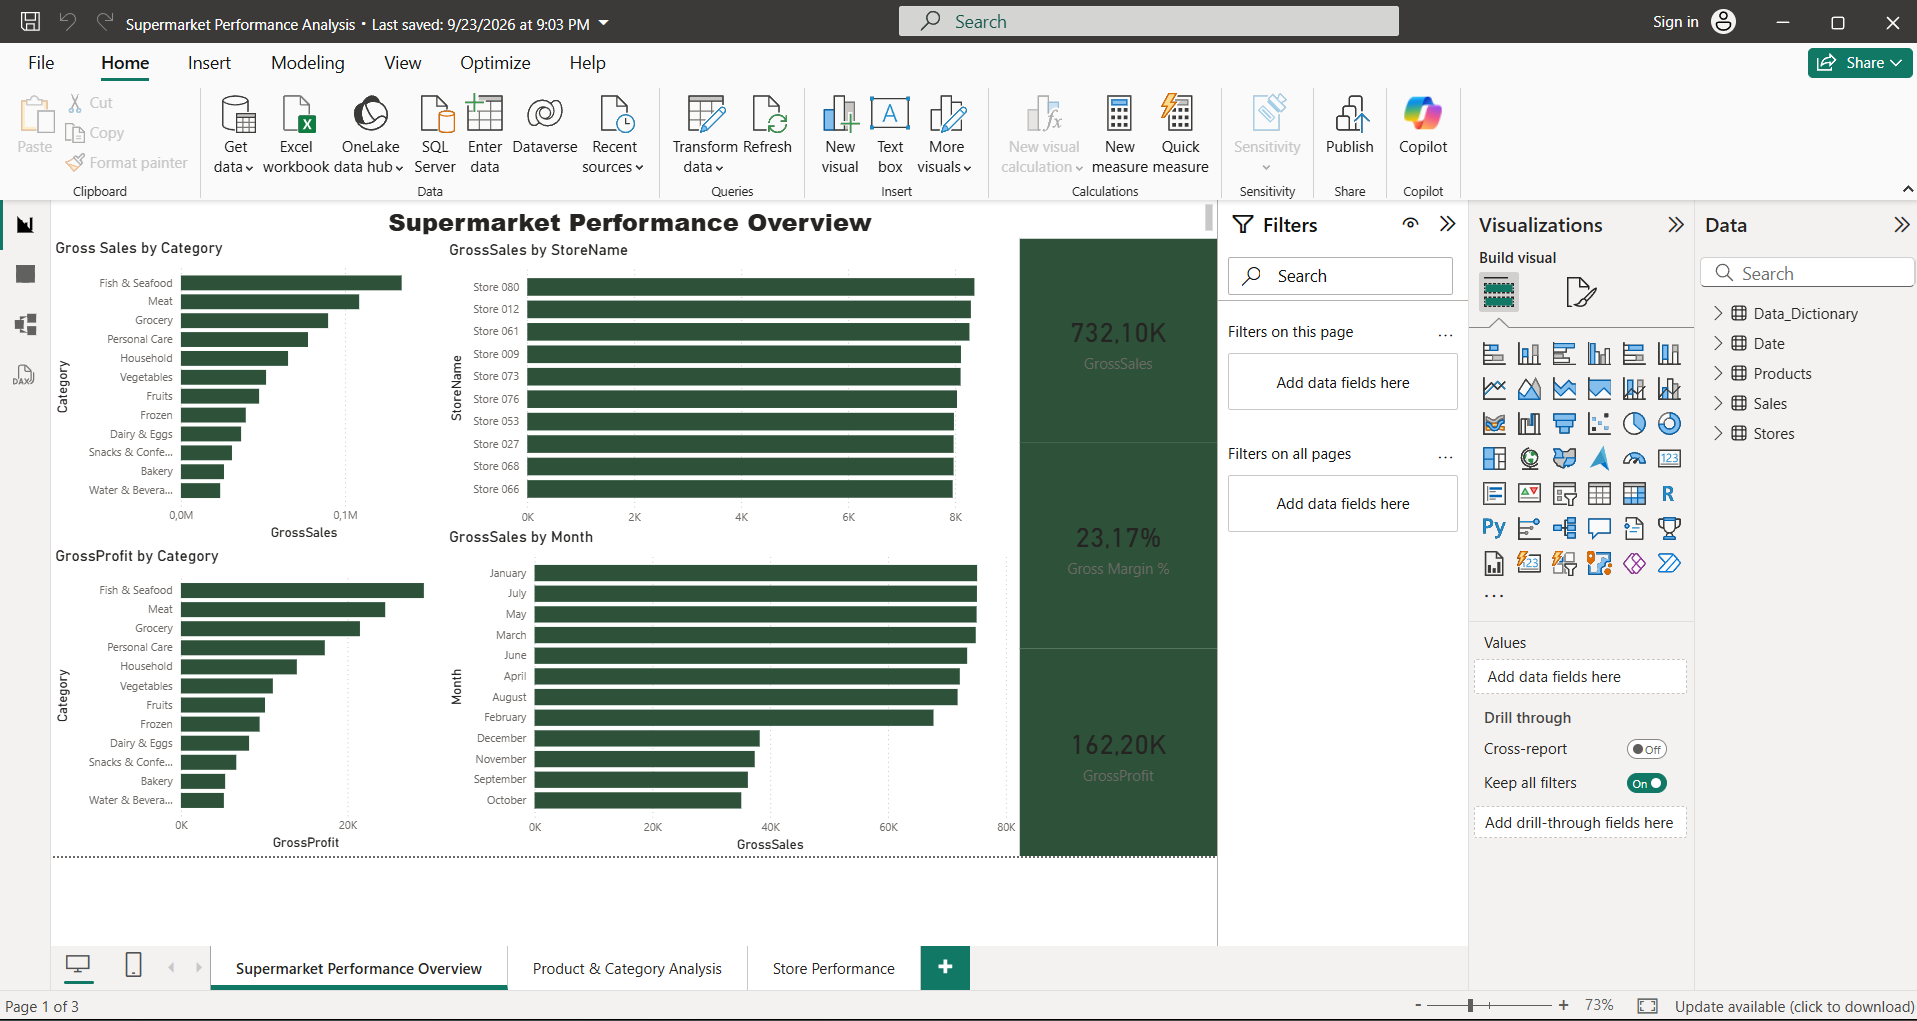

What the dashboard file says about the page in this screenshot:
{"tool":"powerbi","page":{"name":"Supermarket Performance Overview","canvas":[1280,720],"ordinal":0},"visuals":[{"type":"clusteredBarChart","title":"Gross Sales by Category","fields":{"Category":["Products.Category"],"Y":["Sum(Sales.GrossSales)"]},"box":[0,42.5,432.2,336.2],"z":0},{"type":"clusteredBarChart","fields":{"Category":["Products.Category"],"Y":["Sum(Sales.GrossProfit)"]},"box":[0,380.1,432.2,338.9],"z":1000},{"type":"clusteredBarChart","fields":{"Category":["Stores.StoreName"],"Y":["Sum(Sales.GrossSales)"]},"box":[432.2,43.9,631.2,336.2],"z":2000},{"type":"clusteredBarChart","fields":{"Category":["Date.Month"],"Y":["Sum(Sales.GrossSales)"]},"box":[432.2,359.5,631.2,360.9],"z":3000},{"type":"textbox","box":[0,0,1280.3,42.5],"z":4000},{"type":"card","fields":{"Values":["Sum(Sales.GrossSales)"]},"box":[1063.5,42.5,216.8,223.7],"z":5000},{"type":"card","fields":{"Values":["Sum(Sales.GrossProfit)"]},"box":[1063.5,492.6,216.8,227.8],"z":6000},{"type":"card","fields":{"Values":["Data_Dictionary.Gross Margin %"]},"box":[1063.5,266.2,216.8,226.4],"z":6001}]}

Visuals, with their boxes on the page's 1280x720 design canvas (x1, y1, x2, y2). These are canvas units, not pixel positions in the 1917x1021 screenshot, which may show the page scaled, cropped or inside an application window:
"Gross Sales by Category" clusteredBarChart: bbox(0, 42, 432, 379)
clusteredBarChart - Products.Category x Sum(Sales.GrossProfit): bbox(0, 380, 432, 719)
clusteredBarChart - Stores.StoreName x Sum(Sales.GrossSales): bbox(432, 44, 1063, 380)
clusteredBarChart - Date.Month x Sum(Sales.GrossSales): bbox(432, 360, 1063, 720)
textbox: bbox(0, 0, 1280, 42)
card - Sum(Sales.GrossSales): bbox(1064, 42, 1280, 266)
card - Sum(Sales.GrossProfit): bbox(1064, 493, 1280, 720)
card - Data_Dictionary.Gross Margin %: bbox(1064, 266, 1280, 493)
